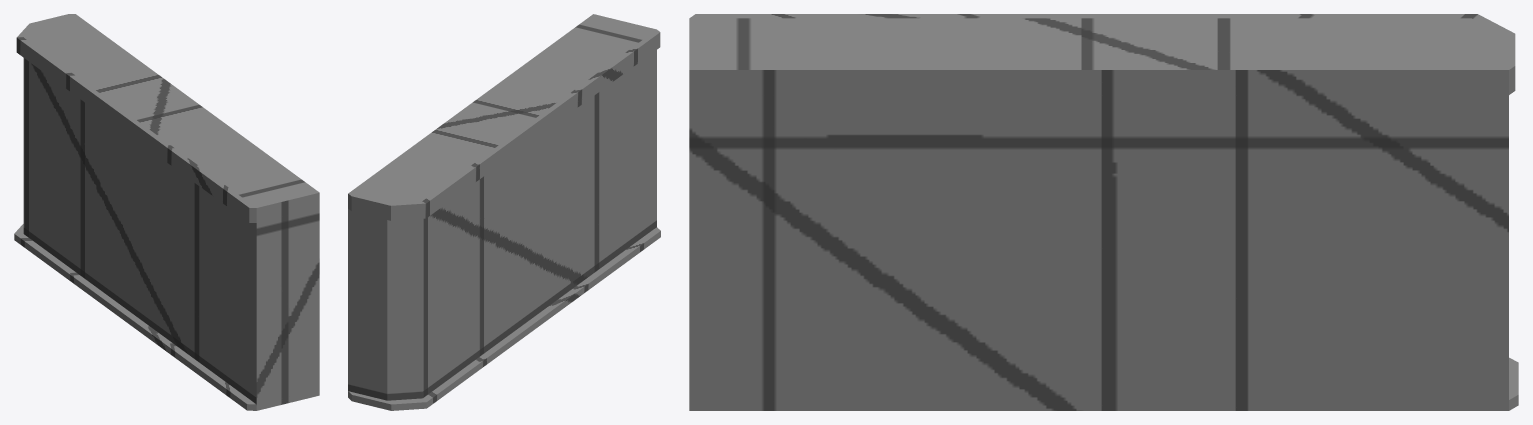
The model's file is SM_resmenumount.fbx.
3 views of the same model, side by side, from view 1: azimuth 30°, elevation 25°; view 2: azimuth 150°, elevation 25°; view 3: azimuth 270°, elevation 25° (orthographic). The views are drawn at different scales.
Parts seen in each view (by area): view 1: SM_menucore; view 2: SM_menucore; view 3: SM_menucore.
Part boxes in pixels (x1,y1,x2,y2): SM_menucore: (14, 14, 319, 410); SM_menucore: (348, 14, 660, 410); SM_menucore: (689, 14, 1518, 410).
Size of the model in its own units: 71.01 by 197 by 434.
